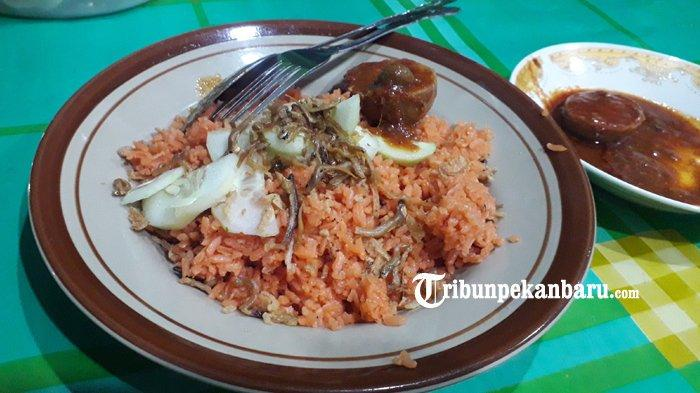Nasi Merah: (163, 82, 496, 345)
